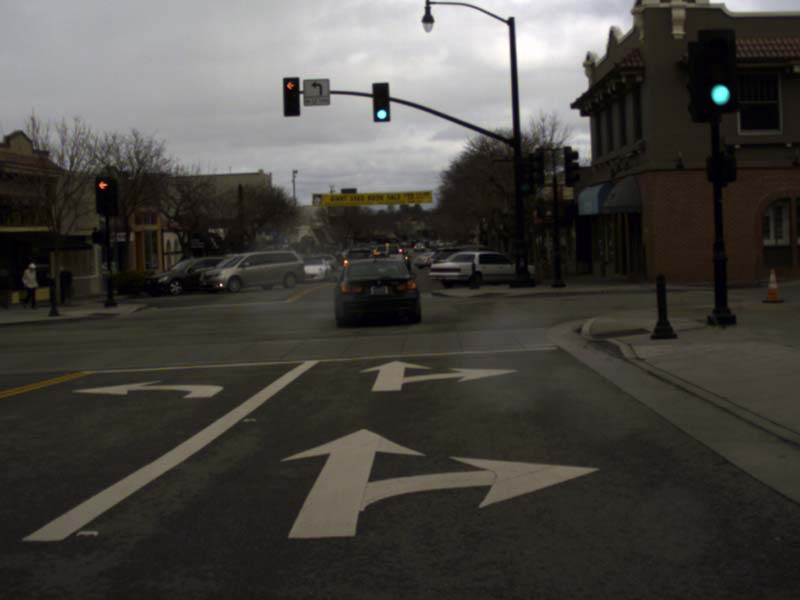Green: (697, 37, 736, 111), (372, 83, 389, 120)
Red: (95, 177, 113, 213), (282, 77, 299, 115)
